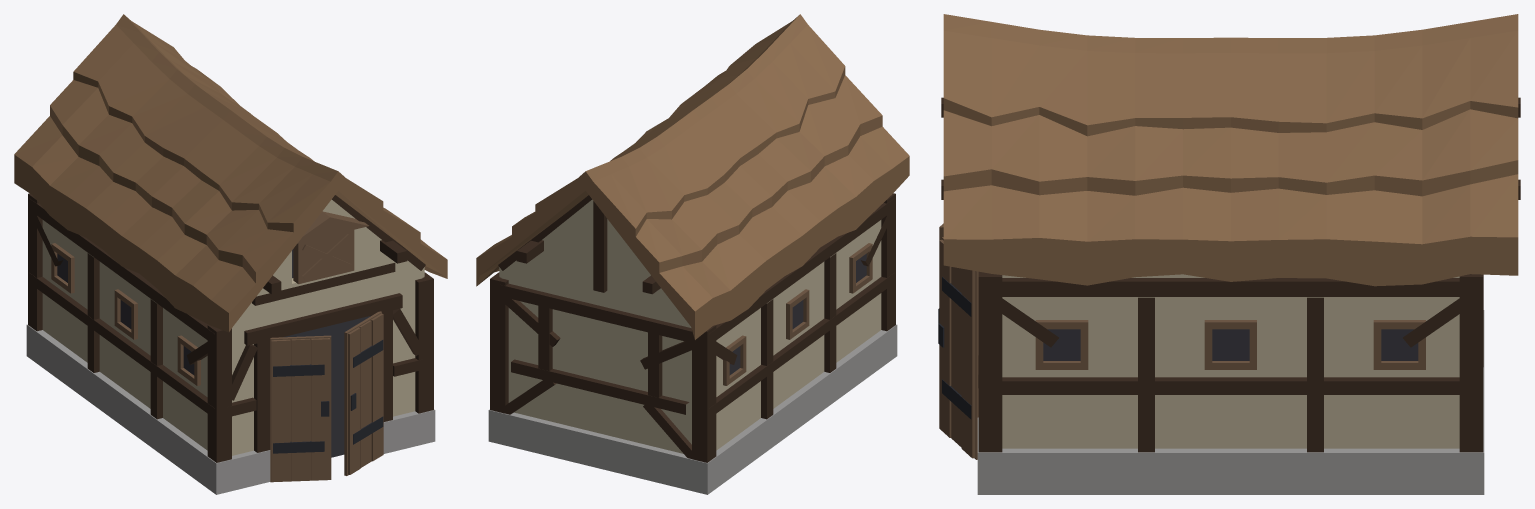
The model's file is timber-barn-90b3ce-preview.glb.
3 renders of one model, left to right at view 1: azimuth 30°, elevation 25°; view 2: azimuth 150°, elevation 25°; view 3: azimuth 270°, elevation 25°, orthographic. The views are drawn at different scales.
Visible parts, largest first — view 1: object 1, door-left, door-right, loft-hatch; view 2: object 1; view 3: object 1, door-right.
Boxes of the visible parts, x1,y1,x2,y2 form: object 1: (14, 14, 447, 494); door-left: (270, 335, 331, 482); door-right: (344, 311, 383, 475); loft-hatch: (293, 230, 354, 284); object 1: (476, 14, 909, 494); object 1: (941, 14, 1520, 494); door-right: (938, 237, 978, 459).
Size of the model in its own units: 4 by 5.35 by 6.89.
